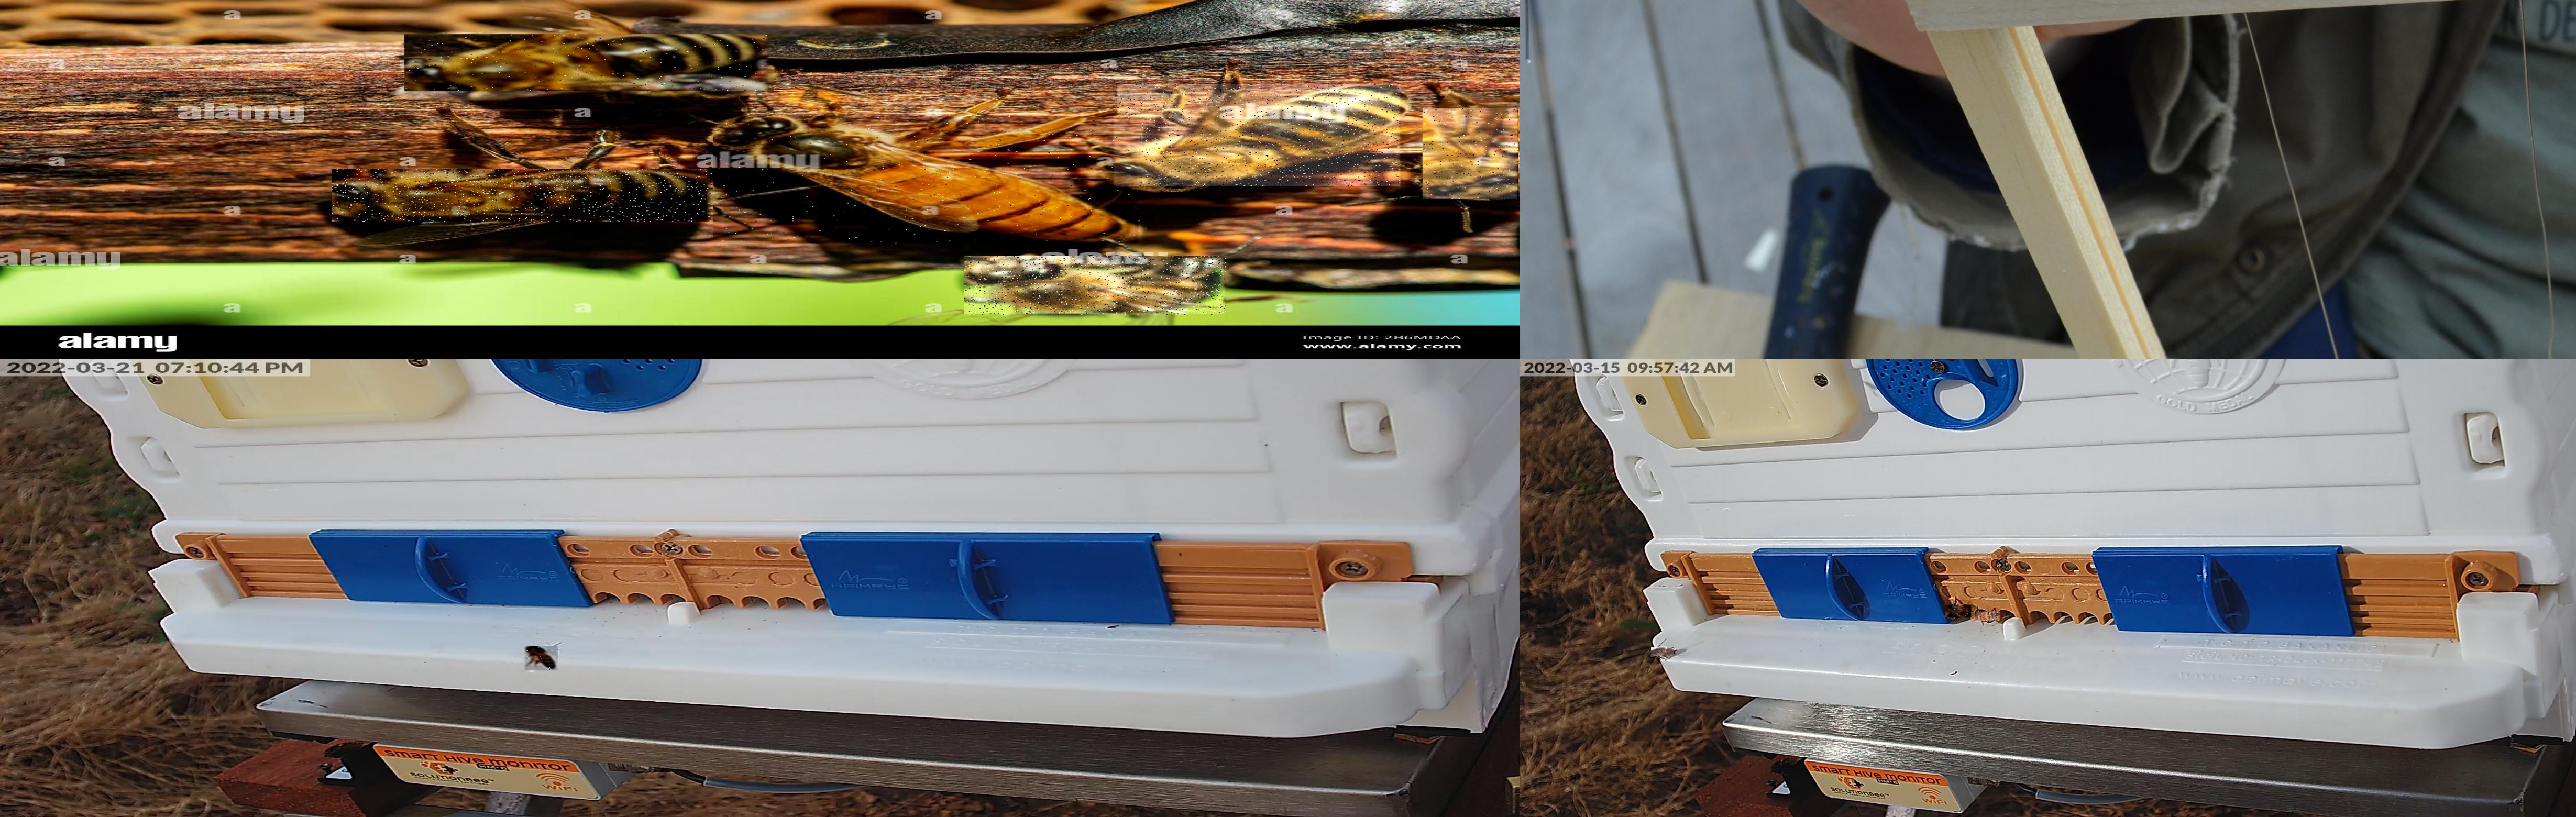bee: (1117, 84, 1401, 186), (406, 35, 772, 92), (333, 169, 713, 222), (964, 256, 1227, 316), (1423, 108, 1518, 199), (1945, 605, 1971, 618), (1976, 612, 2001, 621), (1651, 648, 1674, 656)
pollenbee: (524, 646, 559, 672)
queen: (715, 117, 1142, 243)
